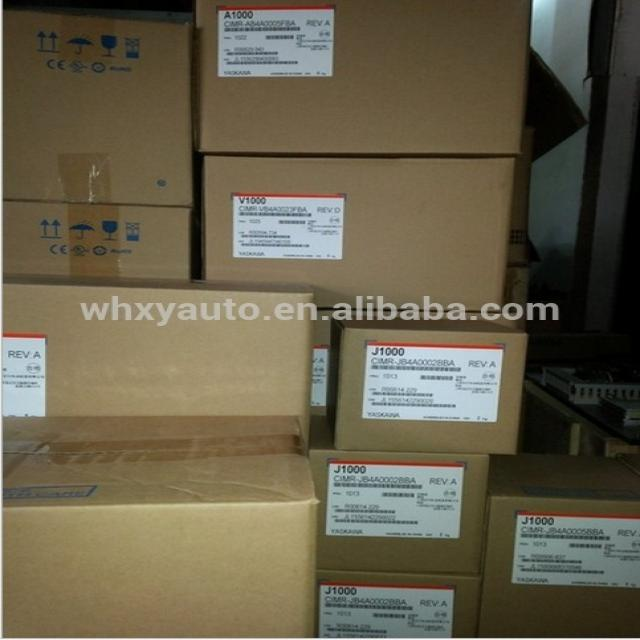box: (3, 416, 317, 639), (2, 275, 314, 449), (189, 152, 515, 313), (190, 0, 534, 152), (3, 11, 194, 205), (478, 455, 639, 639), (327, 311, 528, 456), (307, 416, 488, 576), (3, 200, 191, 278), (317, 570, 482, 638), (310, 311, 331, 416)
